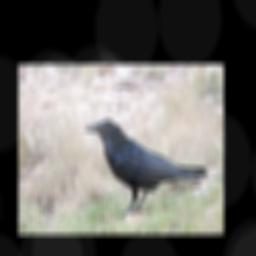Crow: (83, 119, 209, 218)
